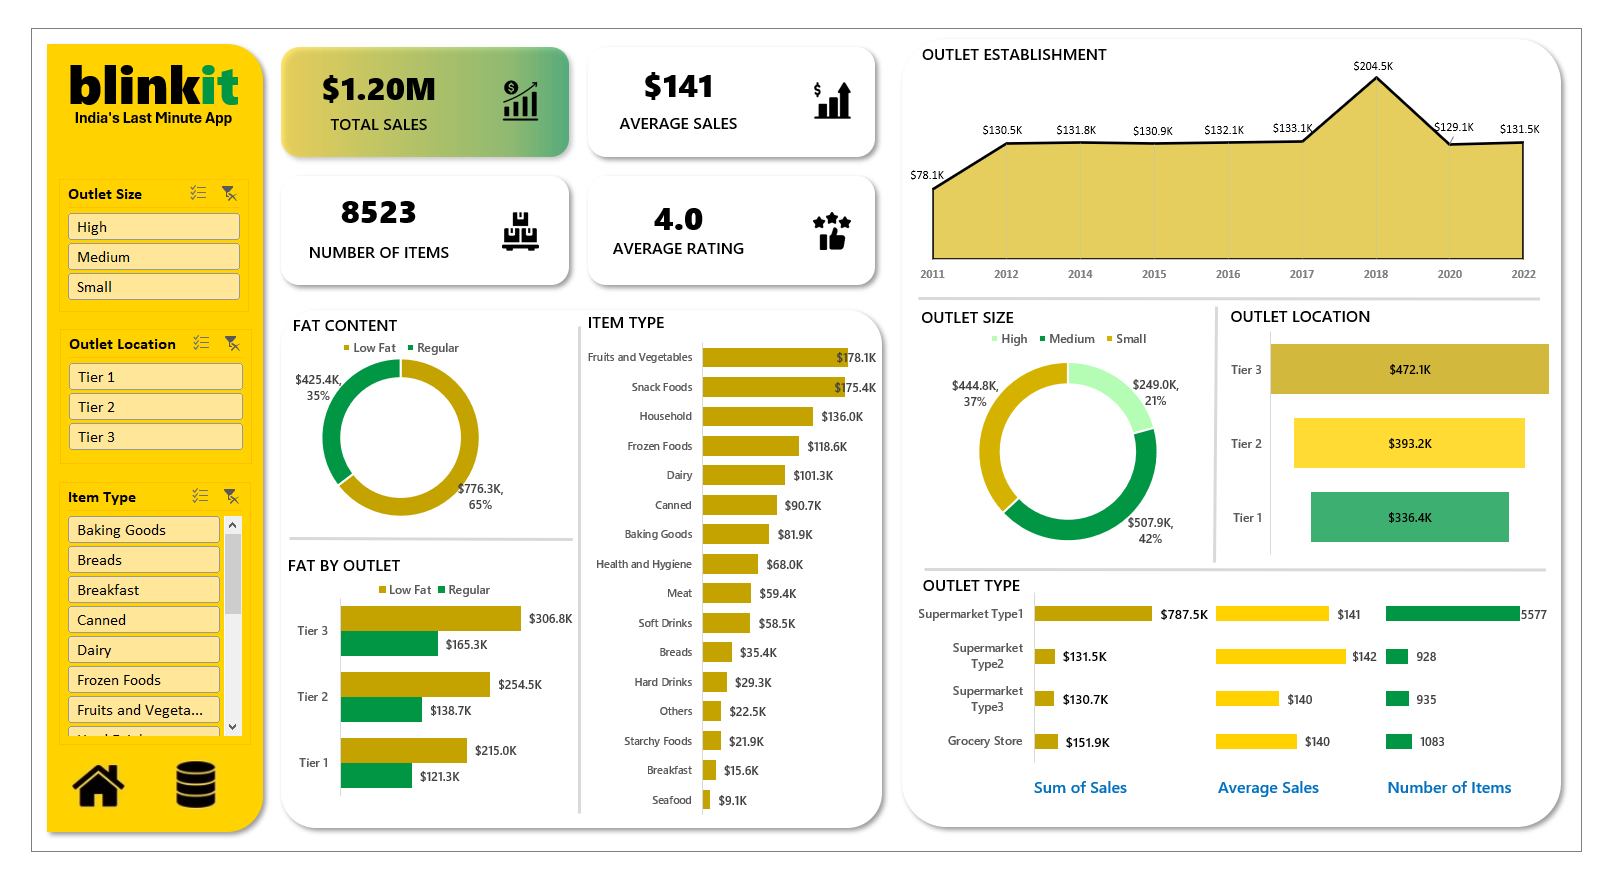

This screenshot's page, from the dashboard's own definition file:
{"tool":"powerbi","page":{"name":"Page 1","canvas":[1400,800],"ordinal":0},"visuals":[{"type":"shape","box":[13.8,23.9,204.8,750.3],"z":0},{"type":"textbox","box":[33.9,41.5,164.6,75.4],"z":1000},{"type":"textbox","box":[35.6,97.9,162.8,36.9],"z":2000},{"type":"cardVisual","fields":{"Data":["BlinkIT Grocery Data.Total Sales","BlinkIT Grocery Data.Avg Sales","BlinkIT Grocery Data.No of Items","BlinkIT Grocery Data.Avg Rating"]},"box":[217.4,14,570.9,269.6],"z":3000},{"type":"shape","box":[226.3,274.7,554.4,499.7],"z":4000},{"type":"donutChart","title":"FAT CONTENT","fields":{"Y":["BlinkIT Grocery Data.Total Sales"],"Category":["BlinkIT Grocery Data.Item Fat Content"]},"box":[239.1,331.9,220,230.2],"z":5000},{"type":"slicer","fields":{"Values":["Metrics.Metrics"]},"box":[239.1,292.5,527.7,39.4],"z":6000},{"type":"cardVisual","fields":{"Data":["BlinkIT Grocery Data.Total Sales"]},"box":[301.4,431.1,95.4,72.5],"z":7000},{"type":"clusteredBarChart","title":"FAT BY OUTLET","fields":{"Y":["BlinkIT Grocery Data.Total Sales"],"Category":["BlinkIT Grocery Data.Outlet Location Type"],"Series":["BlinkIT Grocery Data.Item Fat Content"]},"box":[237.8,544.2,220,230.2],"z":8000},{"type":"shape","box":[239.1,526.4,220,40.7],"z":9000},{"type":"shape","box":[348.4,331.9,220,423.4],"z":10000},{"type":"barChart","title":"ITEM TYPE","fields":{"Y":["BlinkIT Grocery Data.Total Sales"],"Category":["BlinkIT Grocery Data.Item Type"]},"box":[459,331.9,307.7,433.6],"z":11000},{"type":"shape","box":[788.4,24.2,600.2,752.8],"z":12000},{"type":"lineChart","title":"OUTLET ESTABLISHMENT","fields":{"Y":["BlinkIT Grocery Data.Total Sales"],"Category":["BlinkIT Grocery Data.Outlet Establishment Year"]},"box":[799.8,48.3,579.8,235.2],"z":13000},{"type":"shape","box":[810,267,569.7,40.7],"z":14000},{"type":"donutChart","title":"OUTLET SIZE","fields":{"Y":["BlinkIT Grocery Data.Total Sales"],"Category":["BlinkIT Grocery Data.Outlet Size"]},"box":[806.2,297.5,274.7,269.6],"z":15000},{"type":"shape","box":[962.6,287.4,220,256.9],"z":16000},{"type":"funnel","title":"OUTLET LOCATION","fields":{"Y":["BlinkIT Grocery Data.Total Sales"],"Category":["BlinkIT Grocery Data.Outlet Location Type"]},"box":[1073.2,293.7,305.2,255.6],"z":17000},{"type":"shape","box":[804.9,526.4,569.7,40.7],"z":18000},{"type":"pivotTable","title":"OUTLET TYPE","fields":{"Rows":["BlinkIT Grocery Data.Outlet Type"],"Values":["BlinkIT Grocery Data.Total Sales","BlinkIT Grocery Data.No of Items","BlinkIT Grocery Data.Avg Sales","BlinkIT Grocery Data.Avg Rating","Avg(BlinkIT Grocery Data.Item Visibility)"]},"box":[806.2,554.4,573.5,211.1],"z":19000},{"type":"slicer","fields":{"Values":["BlinkIT Grocery Data.Outlet Location Type"]},"box":[30.5,267,171.7,66.1],"z":20000},{"type":"slicer","fields":{"Values":["BlinkIT Grocery Data.Outlet Size"]},"box":[30.5,356,171.7,66.1],"z":21000},{"type":"slicer","fields":{"Values":["BlinkIT Grocery Data.Item Type"]},"box":[30.5,447.6,171.7,66.1],"z":22000}]}

Visuals, with their boxes on the page's 1400x800 design canvas (x1, y1, x2, y2). These are canvas units, not pixel positions in the 1618x889 screenshot, which may show the page scaled, cropped or inside an application window:
shape: [x1=14, y1=24, x2=219, y2=774]
textbox: [x1=34, y1=42, x2=198, y2=117]
textbox: [x1=36, y1=98, x2=198, y2=135]
cardVisual - BlinkIT Grocery Data.Total Sales x BlinkIT Grocery Data.Avg Sales: [x1=217, y1=14, x2=788, y2=284]
shape: [x1=226, y1=275, x2=781, y2=774]
"FAT CONTENT" donutChart: [x1=239, y1=332, x2=459, y2=562]
slicer - Metrics.Metrics: [x1=239, y1=292, x2=767, y2=332]
cardVisual - BlinkIT Grocery Data.Total Sales: [x1=301, y1=431, x2=397, y2=504]
"FAT BY OUTLET" clusteredBarChart: [x1=238, y1=544, x2=458, y2=774]
shape: [x1=239, y1=526, x2=459, y2=567]
shape: [x1=348, y1=332, x2=568, y2=755]
"ITEM TYPE" barChart: [x1=459, y1=332, x2=767, y2=766]
shape: [x1=788, y1=24, x2=1389, y2=777]
"OUTLET ESTABLISHMENT" lineChart: [x1=800, y1=48, x2=1380, y2=284]
shape: [x1=810, y1=267, x2=1380, y2=308]
"OUTLET SIZE" donutChart: [x1=806, y1=298, x2=1081, y2=567]
shape: [x1=963, y1=287, x2=1183, y2=544]
"OUTLET LOCATION" funnel: [x1=1073, y1=294, x2=1378, y2=549]
shape: [x1=805, y1=526, x2=1375, y2=567]
"OUTLET TYPE" pivotTable: [x1=806, y1=554, x2=1380, y2=766]
slicer - BlinkIT Grocery Data.Outlet Location Type: [x1=30, y1=267, x2=202, y2=333]
slicer - BlinkIT Grocery Data.Outlet Size: [x1=30, y1=356, x2=202, y2=422]
slicer - BlinkIT Grocery Data.Item Type: [x1=30, y1=448, x2=202, y2=514]
